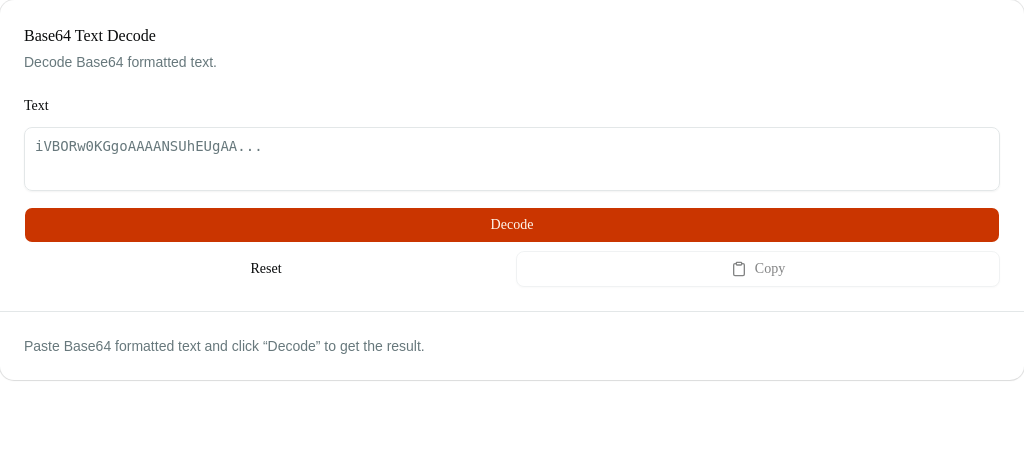
Base64TextDecode › decoding › decodes "SGVsbG8=" to "Hello"
Step 1. Type "SGVsbG8=" into the text box labelled "Text" → [512, 159], box [24,127,1000,191]
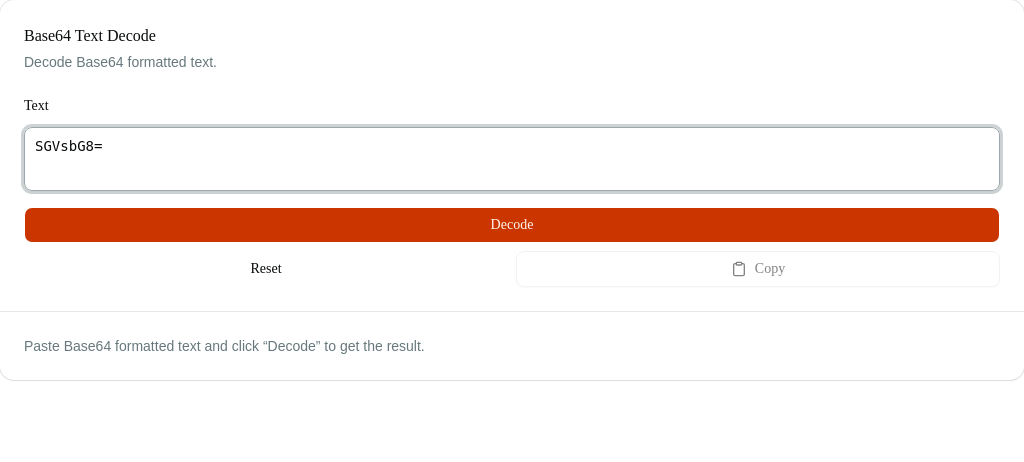
Step 2. Click the button "Decode" → [512, 225], box [24,207,1000,243]
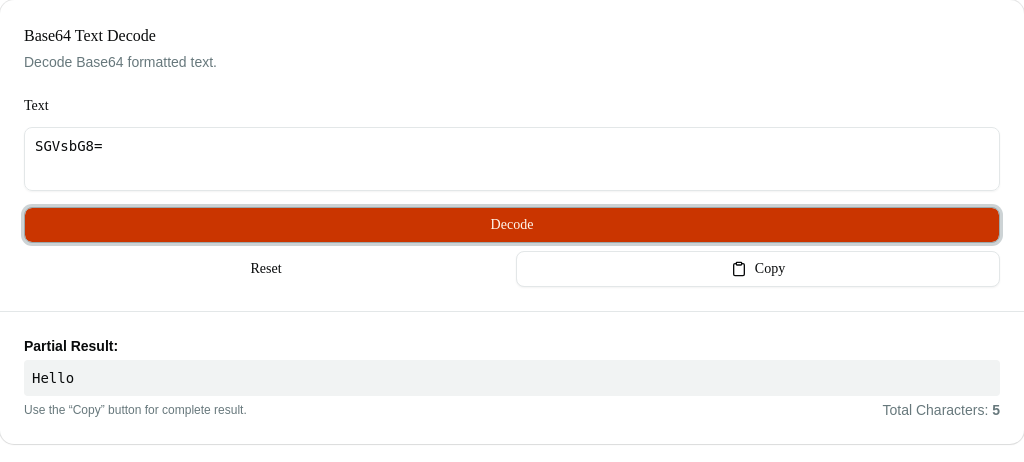
Now the text "Hello" is shown, box [24,360,1000,396]
